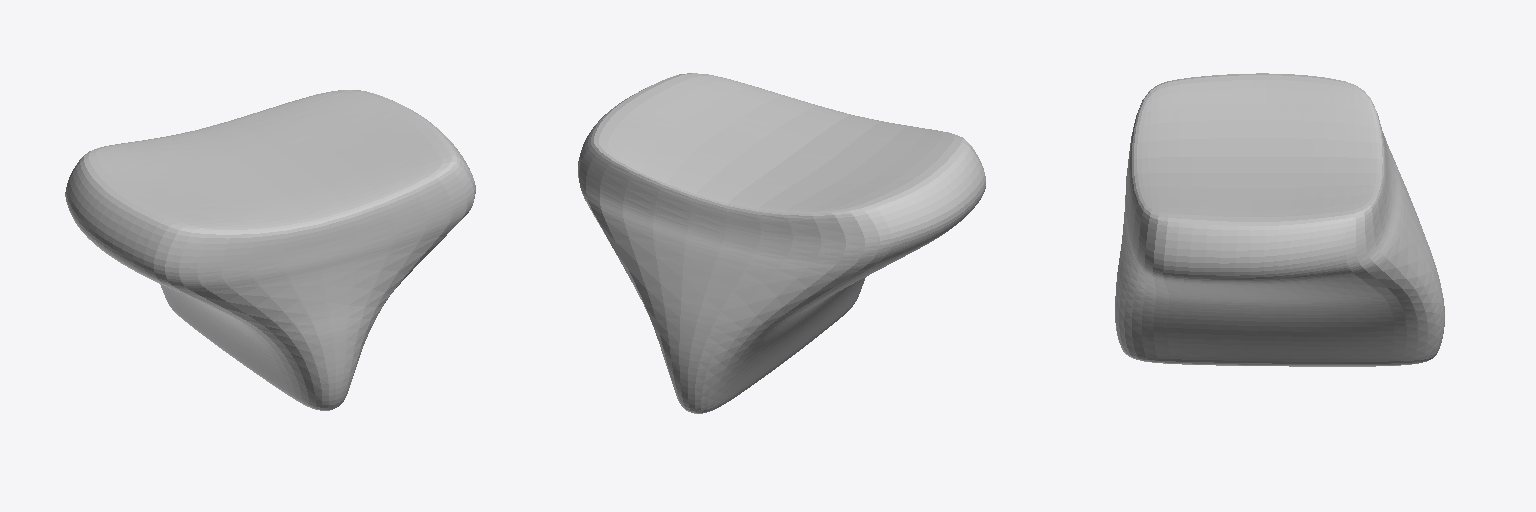
Rendered from f_pelvis.obj.
3 renders of one model, left to right at view 1: azimuth 30°, elevation 25°; view 2: azimuth 150°, elevation 25°; view 3: azimuth 270°, elevation 25°, orthographic.
Visible parts, largest first — view 1: pCube13; view 2: pCube13; view 3: pCube13.
Boxes of the visible parts, x1,y1,x2,y2 form: pCube13: [65, 90, 475, 410]; pCube13: [578, 73, 985, 413]; pCube13: [1115, 73, 1444, 366].
Bounding box in the file's own units: 1.19 × 0.7014 × 0.9707.